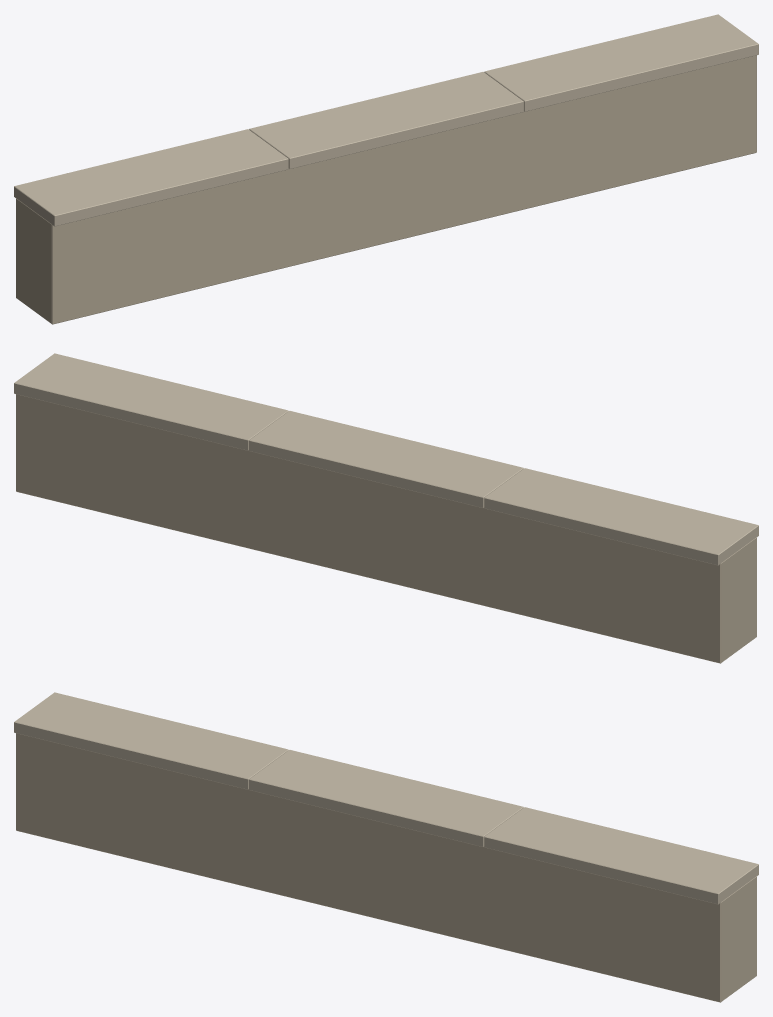
File: low_wall.glb
3 renders of one model, top to bottom at view 1: azimuth 30°, elevation 25°; view 2: azimuth 150°, elevation 25°; view 3: azimuth 330°, elevation 25°, orthographic.
Visible parts, largest first — view 1: body; view 2: body; view 3: body.
Part boxes in pixels (bbox=[...]): body: bbox=[14, 14, 758, 324]; body: bbox=[14, 353, 758, 663]; body: bbox=[14, 692, 758, 1002].
Bounding box in the file's own units: 3 × 0.45 × 0.3.
